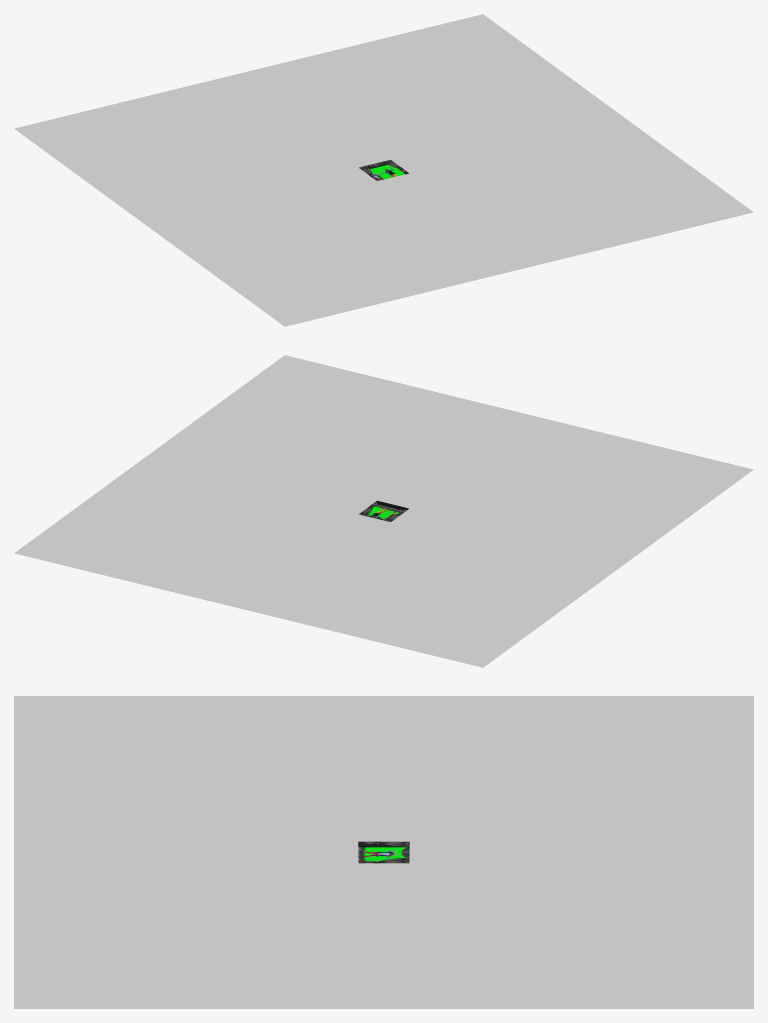
Rendered from punkkitchen.glb.
3 renders of one model, top to bottom at view 1: azimuth 30°, elevation 25°; view 2: azimuth 150°, elevation 25°; view 3: azimuth 270°, elevation 25°, orthographic. The views are drawn at different scales.
Visible parts, largest first — view 1: clip; view 2: clip; view 3: clip, videotarget.
Part boxes in pixels (x1,y1,x2,y2): clip: (14,14,753,326); clip: (14,355,753,667); clip: (14,696,753,1008); videotarget: (358,847,409,863).
Bounding box in the file's own units: 26.01 × 1.13 × 26.01.
Materials: 4 (3 with a texture image).
